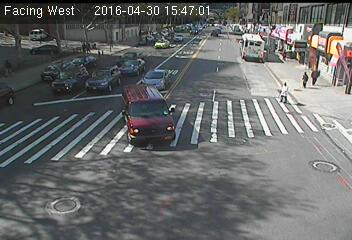neg: (79, 73, 114, 120), (11, 87, 42, 129), (186, 171, 216, 212), (316, 151, 346, 190), (142, 97, 171, 135), (208, 108, 236, 146), (97, 164, 121, 196), (57, 190, 80, 222), (180, 44, 201, 72), (246, 29, 267, 57), (277, 32, 297, 59), (312, 34, 325, 51)
pos: (274, 80, 291, 103), (296, 68, 309, 85), (310, 65, 323, 82)
